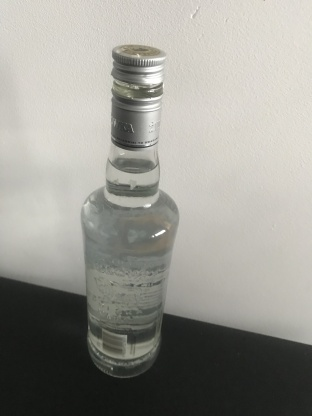nakretka: (109, 43, 167, 151)
